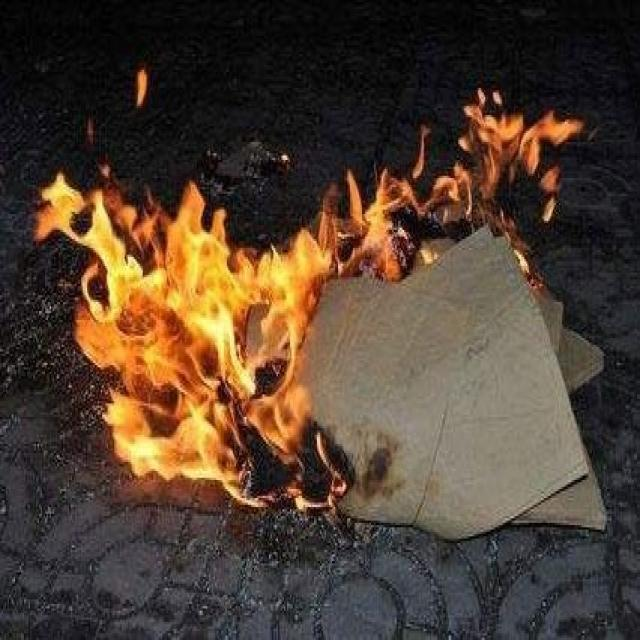Fire: (33, 68, 583, 514)
